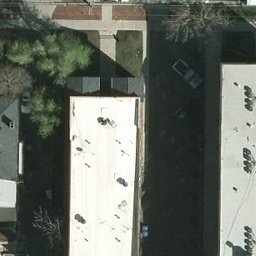car: (173, 58, 204, 90), (19, 80, 31, 114)
